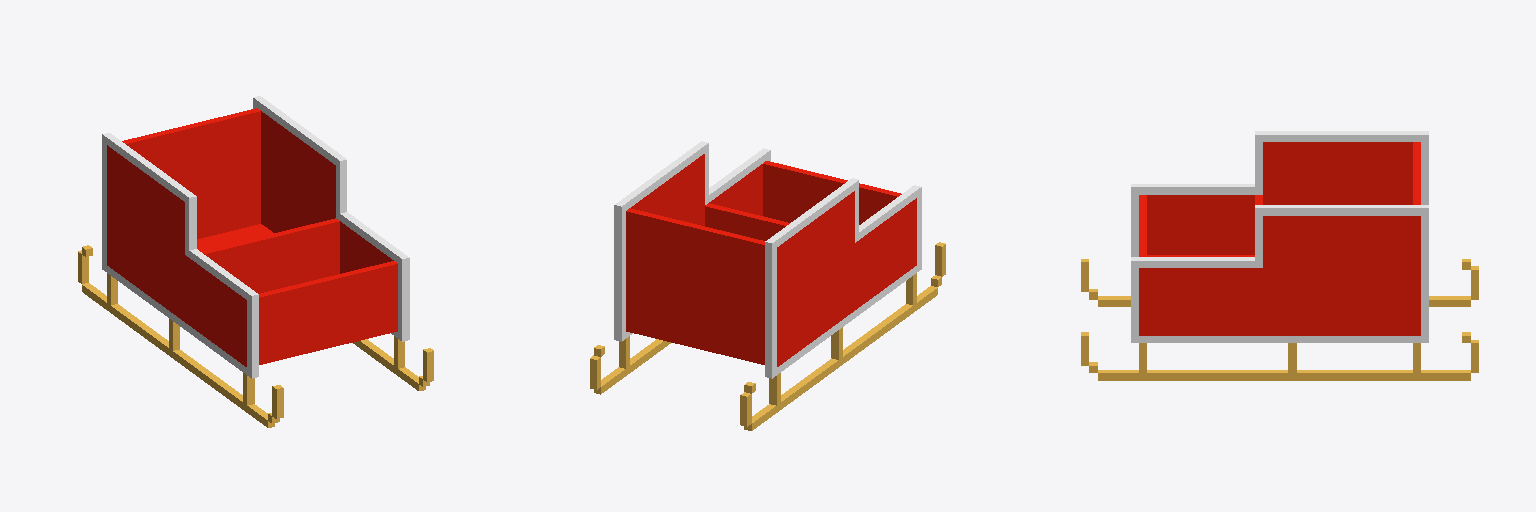
The picture shows the model from 3 angles: view 1: azimuth 30°, elevation 25°; view 2: azimuth 150°, elevation 25°; view 3: azimuth 270°, elevation 25°; orthographic projection.
Parts seen in each view (by area): view 1: sledge; view 2: sledge; view 3: sledge.
Part boxes in pixels (left/top/right/bottom): sledge: left=78, top=96, right=433, bottom=427; sledge: left=590, top=141, right=945, bottom=430; sledge: left=1081, top=131, right=1478, bottom=380.
Size of the model in its own units: 22 by 23 by 48.
1 materials, 1 textured.